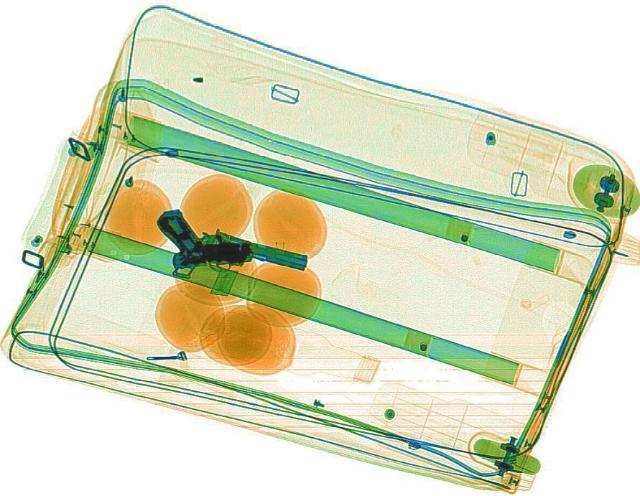Gun: (169, 224, 311, 302), (152, 198, 256, 270)
